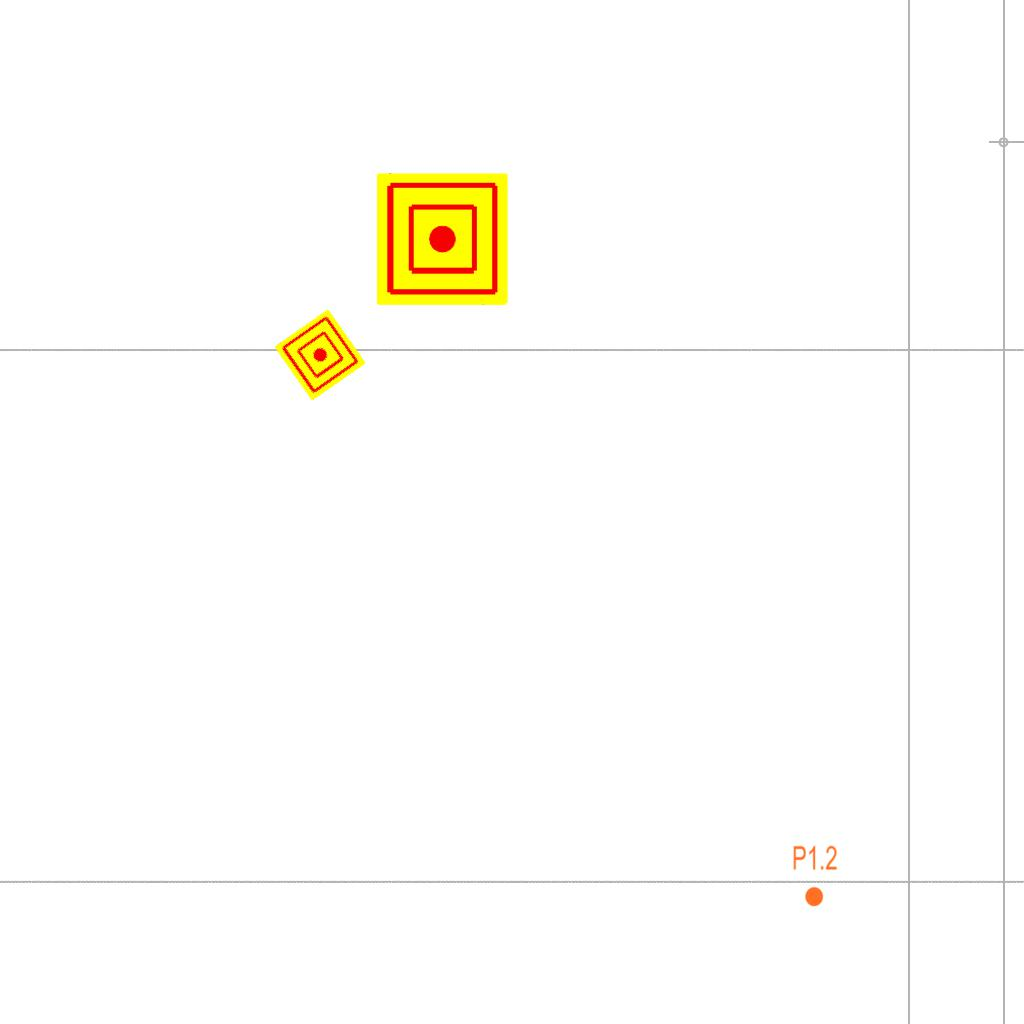Downlight_LED_Einbauleuchten_Flur: (792, 844, 838, 908)
NAM-Nichtautomatischer_Melder: (376, 173, 508, 305), (274, 309, 366, 401)
